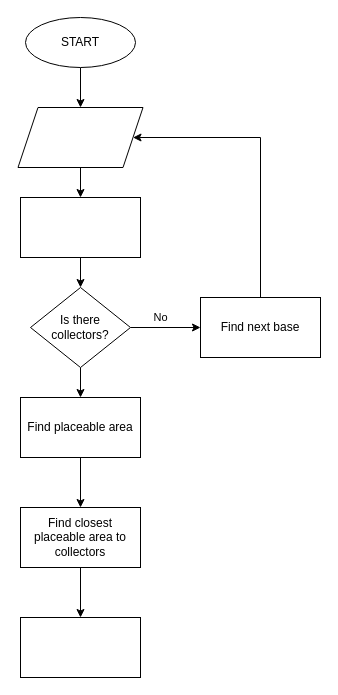
This 338x695 diagram has some shape labels left out. Here are the shapes that lost their labels. From the top down, the centre of each, then its label:
At point 80,137: "Get base screen".
At point 80,227: "Find collectors".
